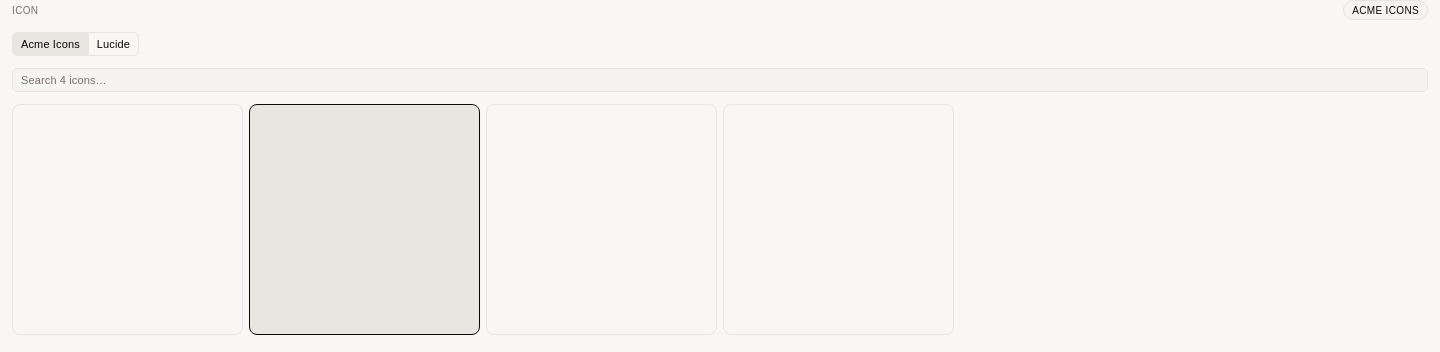
Test case: IconPickerSection › switches the visible icons when the user clicks a different source chip
Click the radio button labelled "Lucide" at (114, 44), box [89,32,139,56]
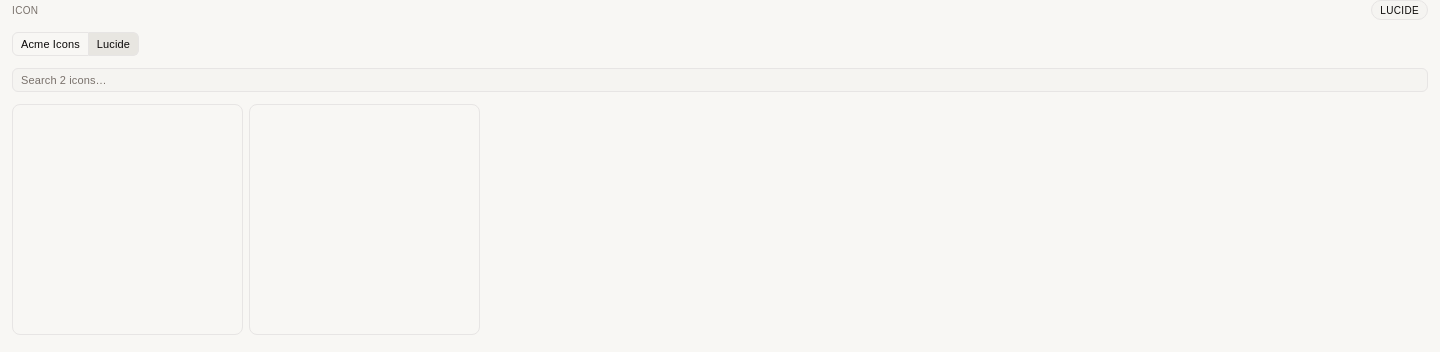
Now the cell labelled "Add" is gone
